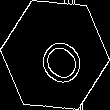O_NW: (24, 22, 86, 88)
